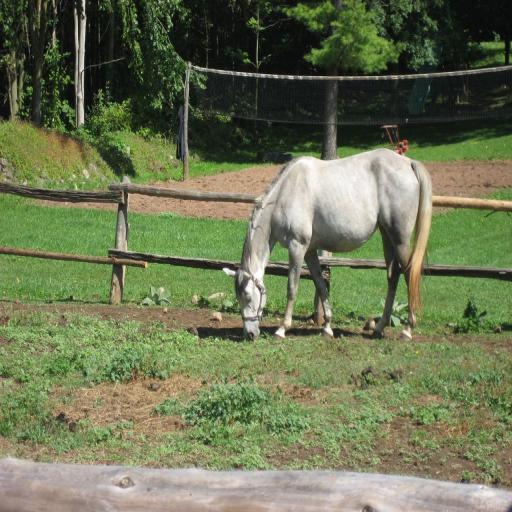horse: (222, 146, 432, 344)
